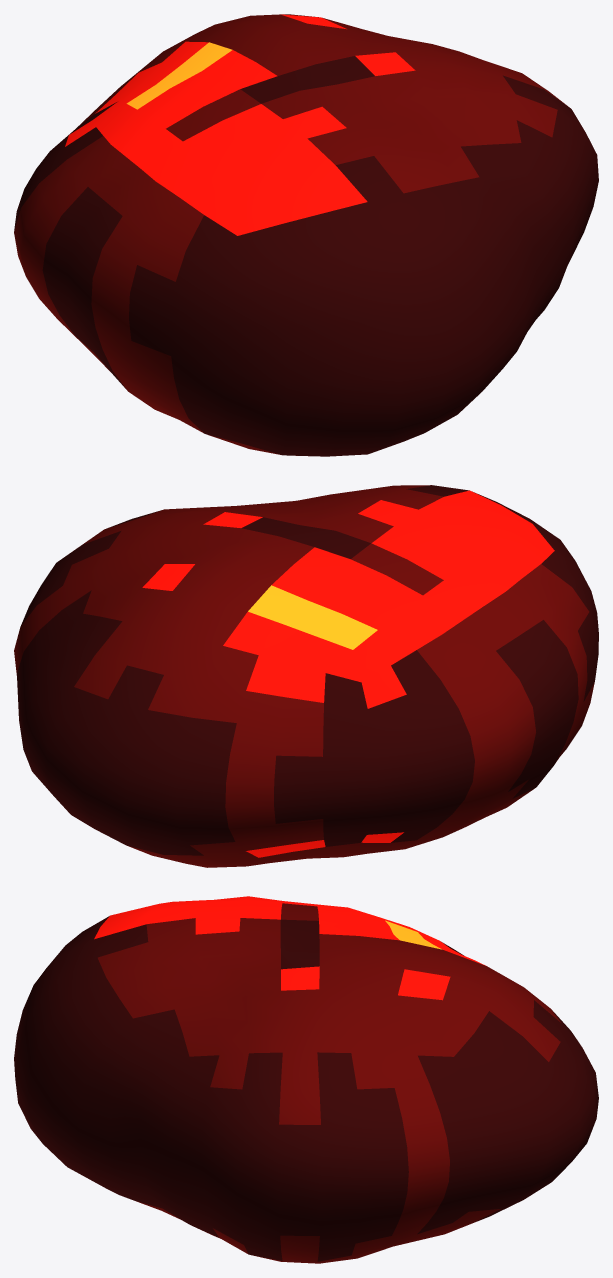
File: newshl-118.glb
3 views of the same model, one above another, from view 1: azimuth 30°, elevation 25°; view 2: azimuth 150°, elevation 25°; view 3: azimuth 270°, elevation 25° (orthographic). The views are drawn at different scales.
Visible parts, largest first — view 1: newshl-118; view 2: newshl-118; view 3: newshl-118.
Part boxes in pixels (bbox=[...]): newshl-118: bbox=[14, 14, 598, 456]; newshl-118: bbox=[14, 485, 598, 867]; newshl-118: bbox=[14, 896, 598, 1263].
Size of the model in its own units: 0.8528 by 0.4953 by 0.9254.
